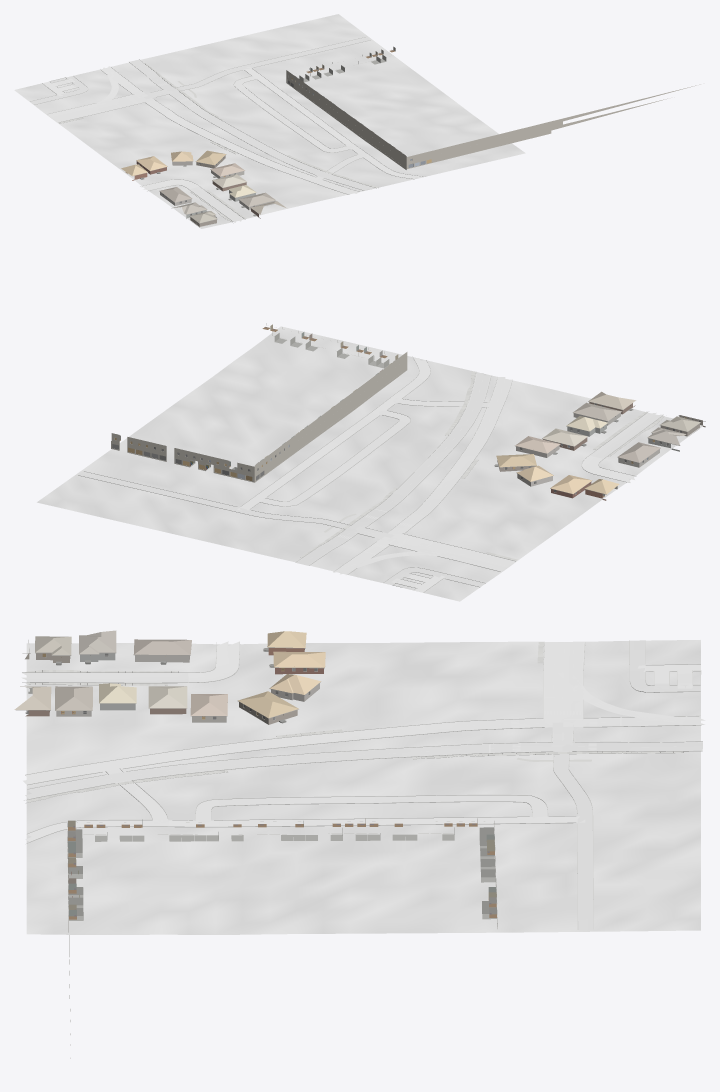
3 renders of one model, top to bottom at view 1: azimuth 30°, elevation 25°; view 2: azimuth 150°, elevation 25°; view 3: azimuth 270°, elevation 25°, orthographic. The views are drawn at different scales.
Visible parts, largest first — view 1: ground, asphalt, concrete, wall_com, roof, curb, walk, wall, room, detail, wall_stone; view 2: ground, asphalt, concrete, roof, wall_com, curb, walk, room, wall, detail, mark_w, wall_stone; view 3: ground, asphalt, concrete, roof, curb, room, walk, mark_w, wall, detail, wall_stone, mark_y.
Boxes of the visible parts, box(x1,y1,x2,y2) form: ground: box(14, 14, 525, 228); asphalt: box(48, 59, 373, 194); concrete: box(30, 37, 421, 222); wall_com: box(286, 70, 700, 169); roof: box(121, 150, 285, 223); curb: box(30, 36, 423, 221); walk: box(58, 63, 378, 222); wall: box(132, 155, 260, 227); room: box(125, 46, 405, 176); detail: box(132, 49, 425, 223); wall_stone: box(160, 161, 275, 209); ground: box(37, 326, 703, 601); asphalt: box(296, 372, 515, 574); concrete: box(78, 358, 663, 592); roof: box(496, 391, 700, 494); wall_com: box(111, 352, 407, 482); curb: box(78, 356, 664, 592); walk: box(300, 371, 663, 560); room: box(115, 324, 653, 497); wall: box(497, 402, 705, 500); detail: box(112, 323, 705, 494); mark_w: box(296, 373, 511, 567); wall_stone: box(516, 413, 659, 486); ground: box(26, 640, 700, 934); asphalt: box(23, 642, 705, 798); concrete: box(21, 640, 700, 930); roof: box(14, 630, 325, 718); curb: box(22, 640, 703, 929); room: box(46, 654, 497, 920); walk: box(25, 642, 683, 802); mark_w: box(26, 642, 702, 798); wall: box(25, 648, 323, 724); detail: box(16, 640, 497, 928); wall_stone: box(56, 655, 319, 722); mark_y: box(27, 642, 702, 789).
Size of the model in its own units: 403 by 14.05 by 257.
